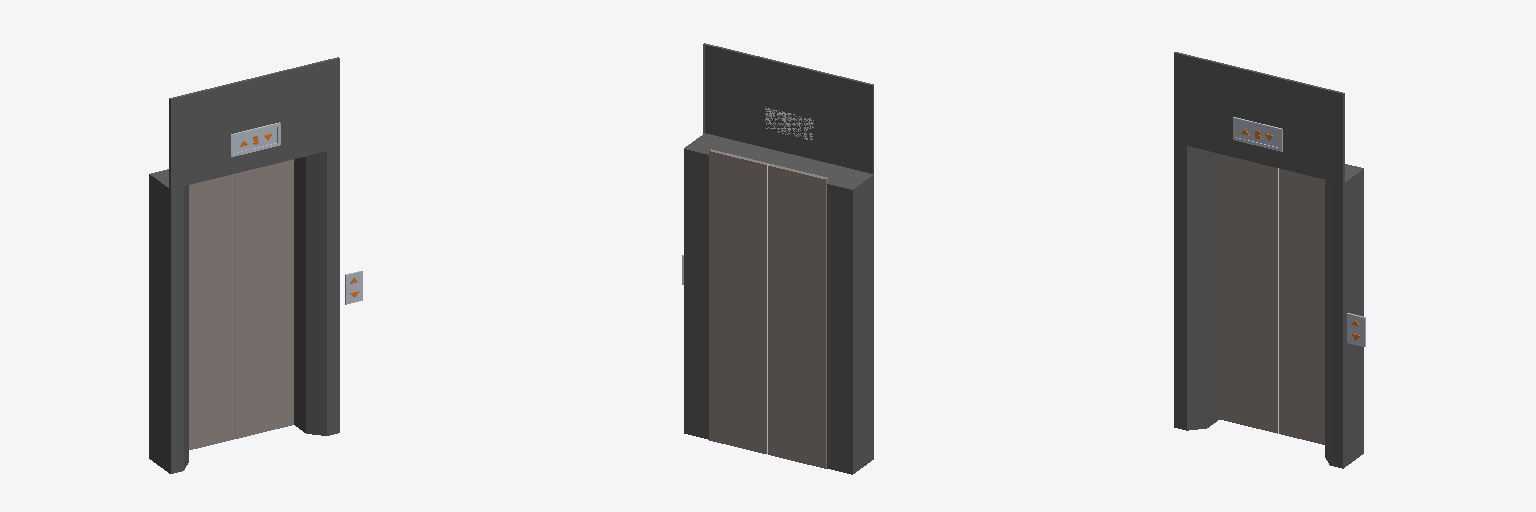
File: lift.obj
3 renders of one model, left to right at view 1: azimuth 30°, elevation 25°; view 2: azimuth 150°, elevation 25°; view 3: azimuth 330°, elevation 25°, orthographic.
Parts seen in each view (by area): view 1: Mesh7 Component_781_1 Door3_1 ske11_1 Group2 Group1 Model, Mesh6 Group9 ske11_1 Group2 Group1 Model, Mesh10 Component_918_2 ske11_1 Group2 Group1 Model, Mesh8 Component_781_2 Door3_1 ske11_1 Group2 Group1 Model, Mesh9 Component_918_1 ske11_1 Group2 Group1 Model, Mesh4 Group8 Group4 Group2 Group1 Model, Mesh1 Group3 Group2 Group1 Model; view 2: Mesh6 Group9 ske11_1 Group2 Group1 Model, Mesh8 Component_781_2 Door3_1 ske11_1 Group2 Group1 Model, Mesh7 Component_781_1 Door3_1 ske11_1 Group2 Group1 Model, Mesh9 Component_918_1 ske11_1 Group2 Group1 Model, Mesh10 Component_918_2 ske11_1 Group2 Group1 Model; view 3: Mesh8 Component_781_2 Door3_1 ske11_1 Group2 Group1 Model, Mesh6 Group9 ske11_1 Group2 Group1 Model, Mesh9 Component_918_1 ske11_1 Group2 Group1 Model, Mesh7 Component_781_1 Door3_1 ske11_1 Group2 Group1 Model, Mesh10 Component_918_2 ske11_1 Group2 Group1 Model, Mesh4 Group8 Group4 Group2 Group1 Model, Mesh1 Group3 Group2 Group1 Model.
Boxes of the visible parts, x1=… form: Mesh7 Component_781_1 Door3_1 ske11_1 Group2 Group1 Model: x1=235, y1=159, x2=293, y2=438; Mesh6 Group9 ske11_1 Group2 Group1 Model: x1=151, y1=57, x2=339, y2=188; Mesh10 Component_918_2 ske11_1 Group2 Group1 Model: x1=294, y1=148, x2=339, y2=435; Mesh8 Component_781_2 Door3_1 ske11_1 Group2 Group1 Model: x1=189, y1=174, x2=234, y2=449; Mesh9 Component_918_1 ske11_1 Group2 Group1 Model: x1=149, y1=169, x2=188, y2=473; Mesh4 Group8 Group4 Group2 Group1 Model: x1=231, y1=122, x2=280, y2=156; Mesh1 Group3 Group2 Group1 Model: x1=345, y1=271, x2=362, y2=304; Mesh6 Group9 ske11_1 Group2 Group1 Model: x1=696, y1=43, x2=873, y2=188; Mesh8 Component_781_2 Door3_1 ske11_1 Group2 Group1 Model: x1=768, y1=164, x2=827, y2=468; Mesh7 Component_781_1 Door3_1 ske11_1 Group2 Group1 Model: x1=709, y1=149, x2=768, y2=453; Mesh9 Component_918_1 ske11_1 Group2 Group1 Model: x1=827, y1=172, x2=873, y2=474; Mesh10 Component_918_2 ske11_1 Group2 Group1 Model: x1=684, y1=133, x2=721, y2=439; Mesh8 Component_781_2 Door3_1 ske11_1 Group2 Group1 Model: x1=1220, y1=154, x2=1278, y2=433; Mesh6 Group9 ske11_1 Group2 Group1 Model: x1=1174, y1=52, x2=1361, y2=183; Mesh9 Component_918_1 ske11_1 Group2 Group1 Model: x1=1174, y1=143, x2=1219, y2=430; Mesh7 Component_781_1 Door3_1 ske11_1 Group2 Group1 Model: x1=1279, y1=168, x2=1324, y2=444; Mesh10 Component_918_2 ske11_1 Group2 Group1 Model: x1=1325, y1=164, x2=1363, y2=468; Mesh4 Group8 Group4 Group2 Group1 Model: x1=1233, y1=117, x2=1282, y2=151; Mesh1 Group3 Group2 Group1 Model: x1=1347, y1=313, x2=1365, y2=346.
Bounding box in the file's own units: 57.93 × 108 × 12.32.